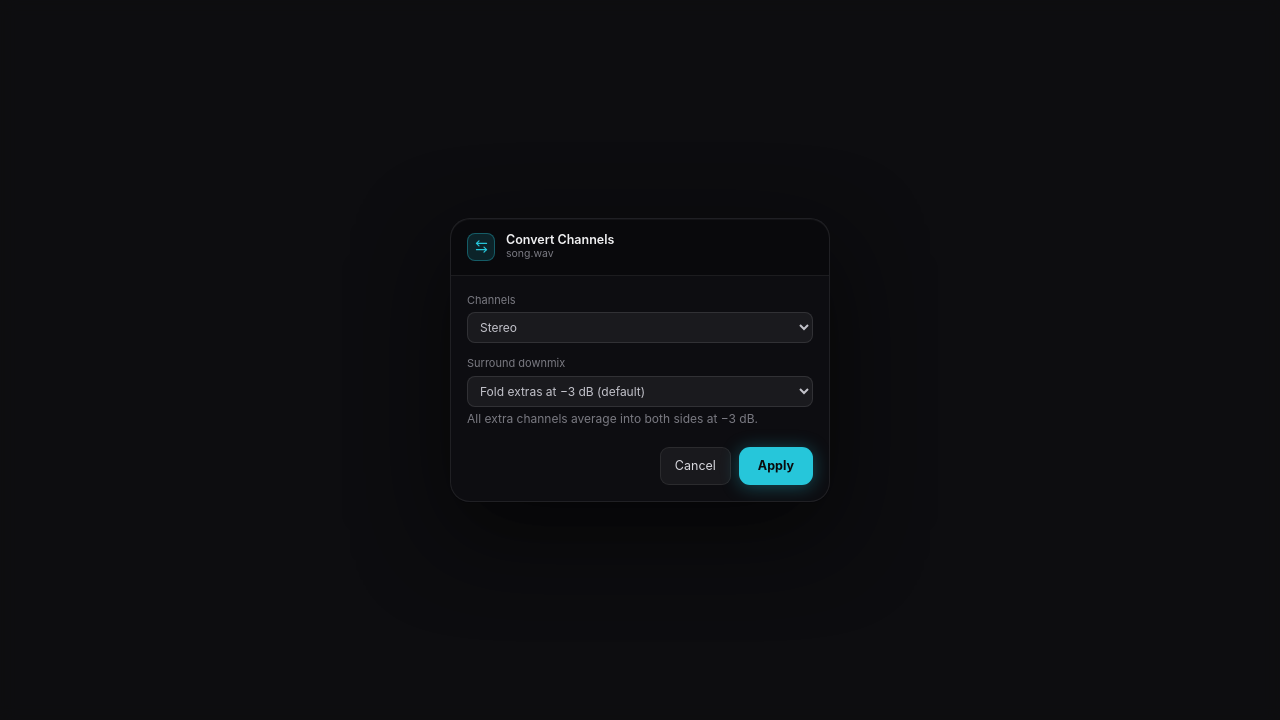
Test case: R6 surround downmix law select › disappears when the target is switched to mono (mono conversion keeps the legacy path)
Step 1. Select "Mono" in the dropdown with test id "convert-channels" → (640, 328), box [467,312,813,343]
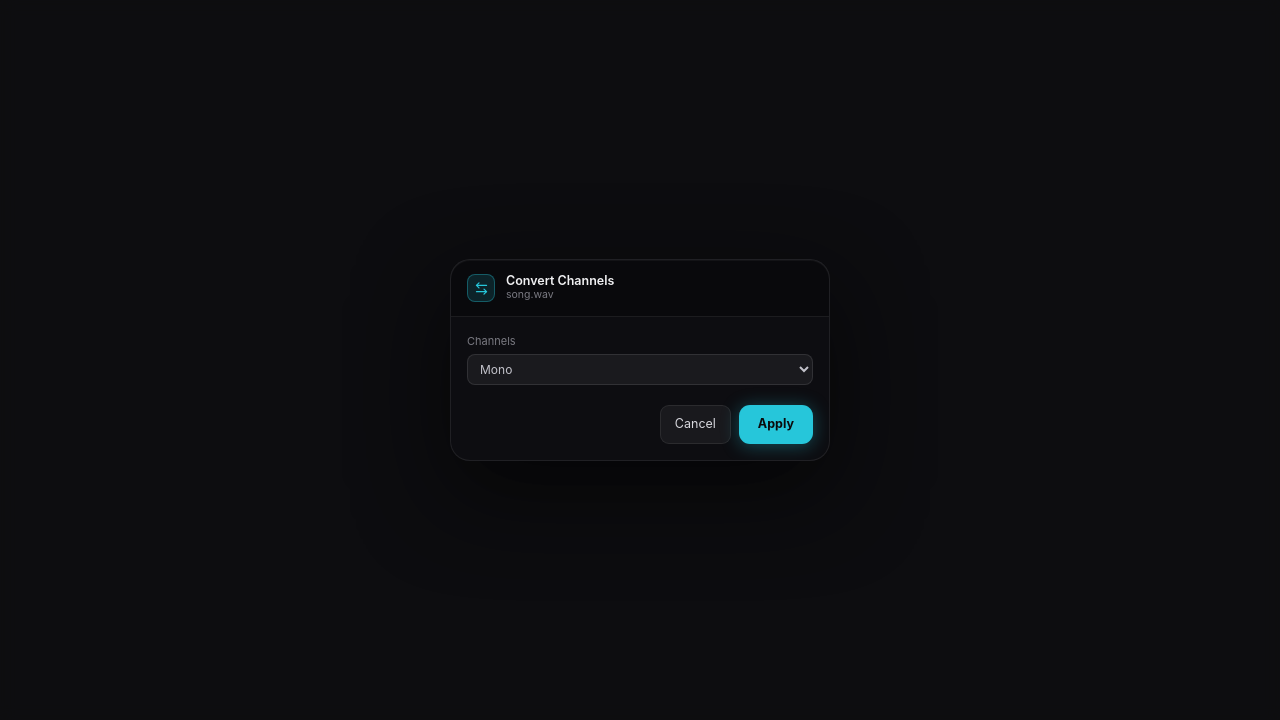
Expected: the label with test id "convert-downmix" is gone
